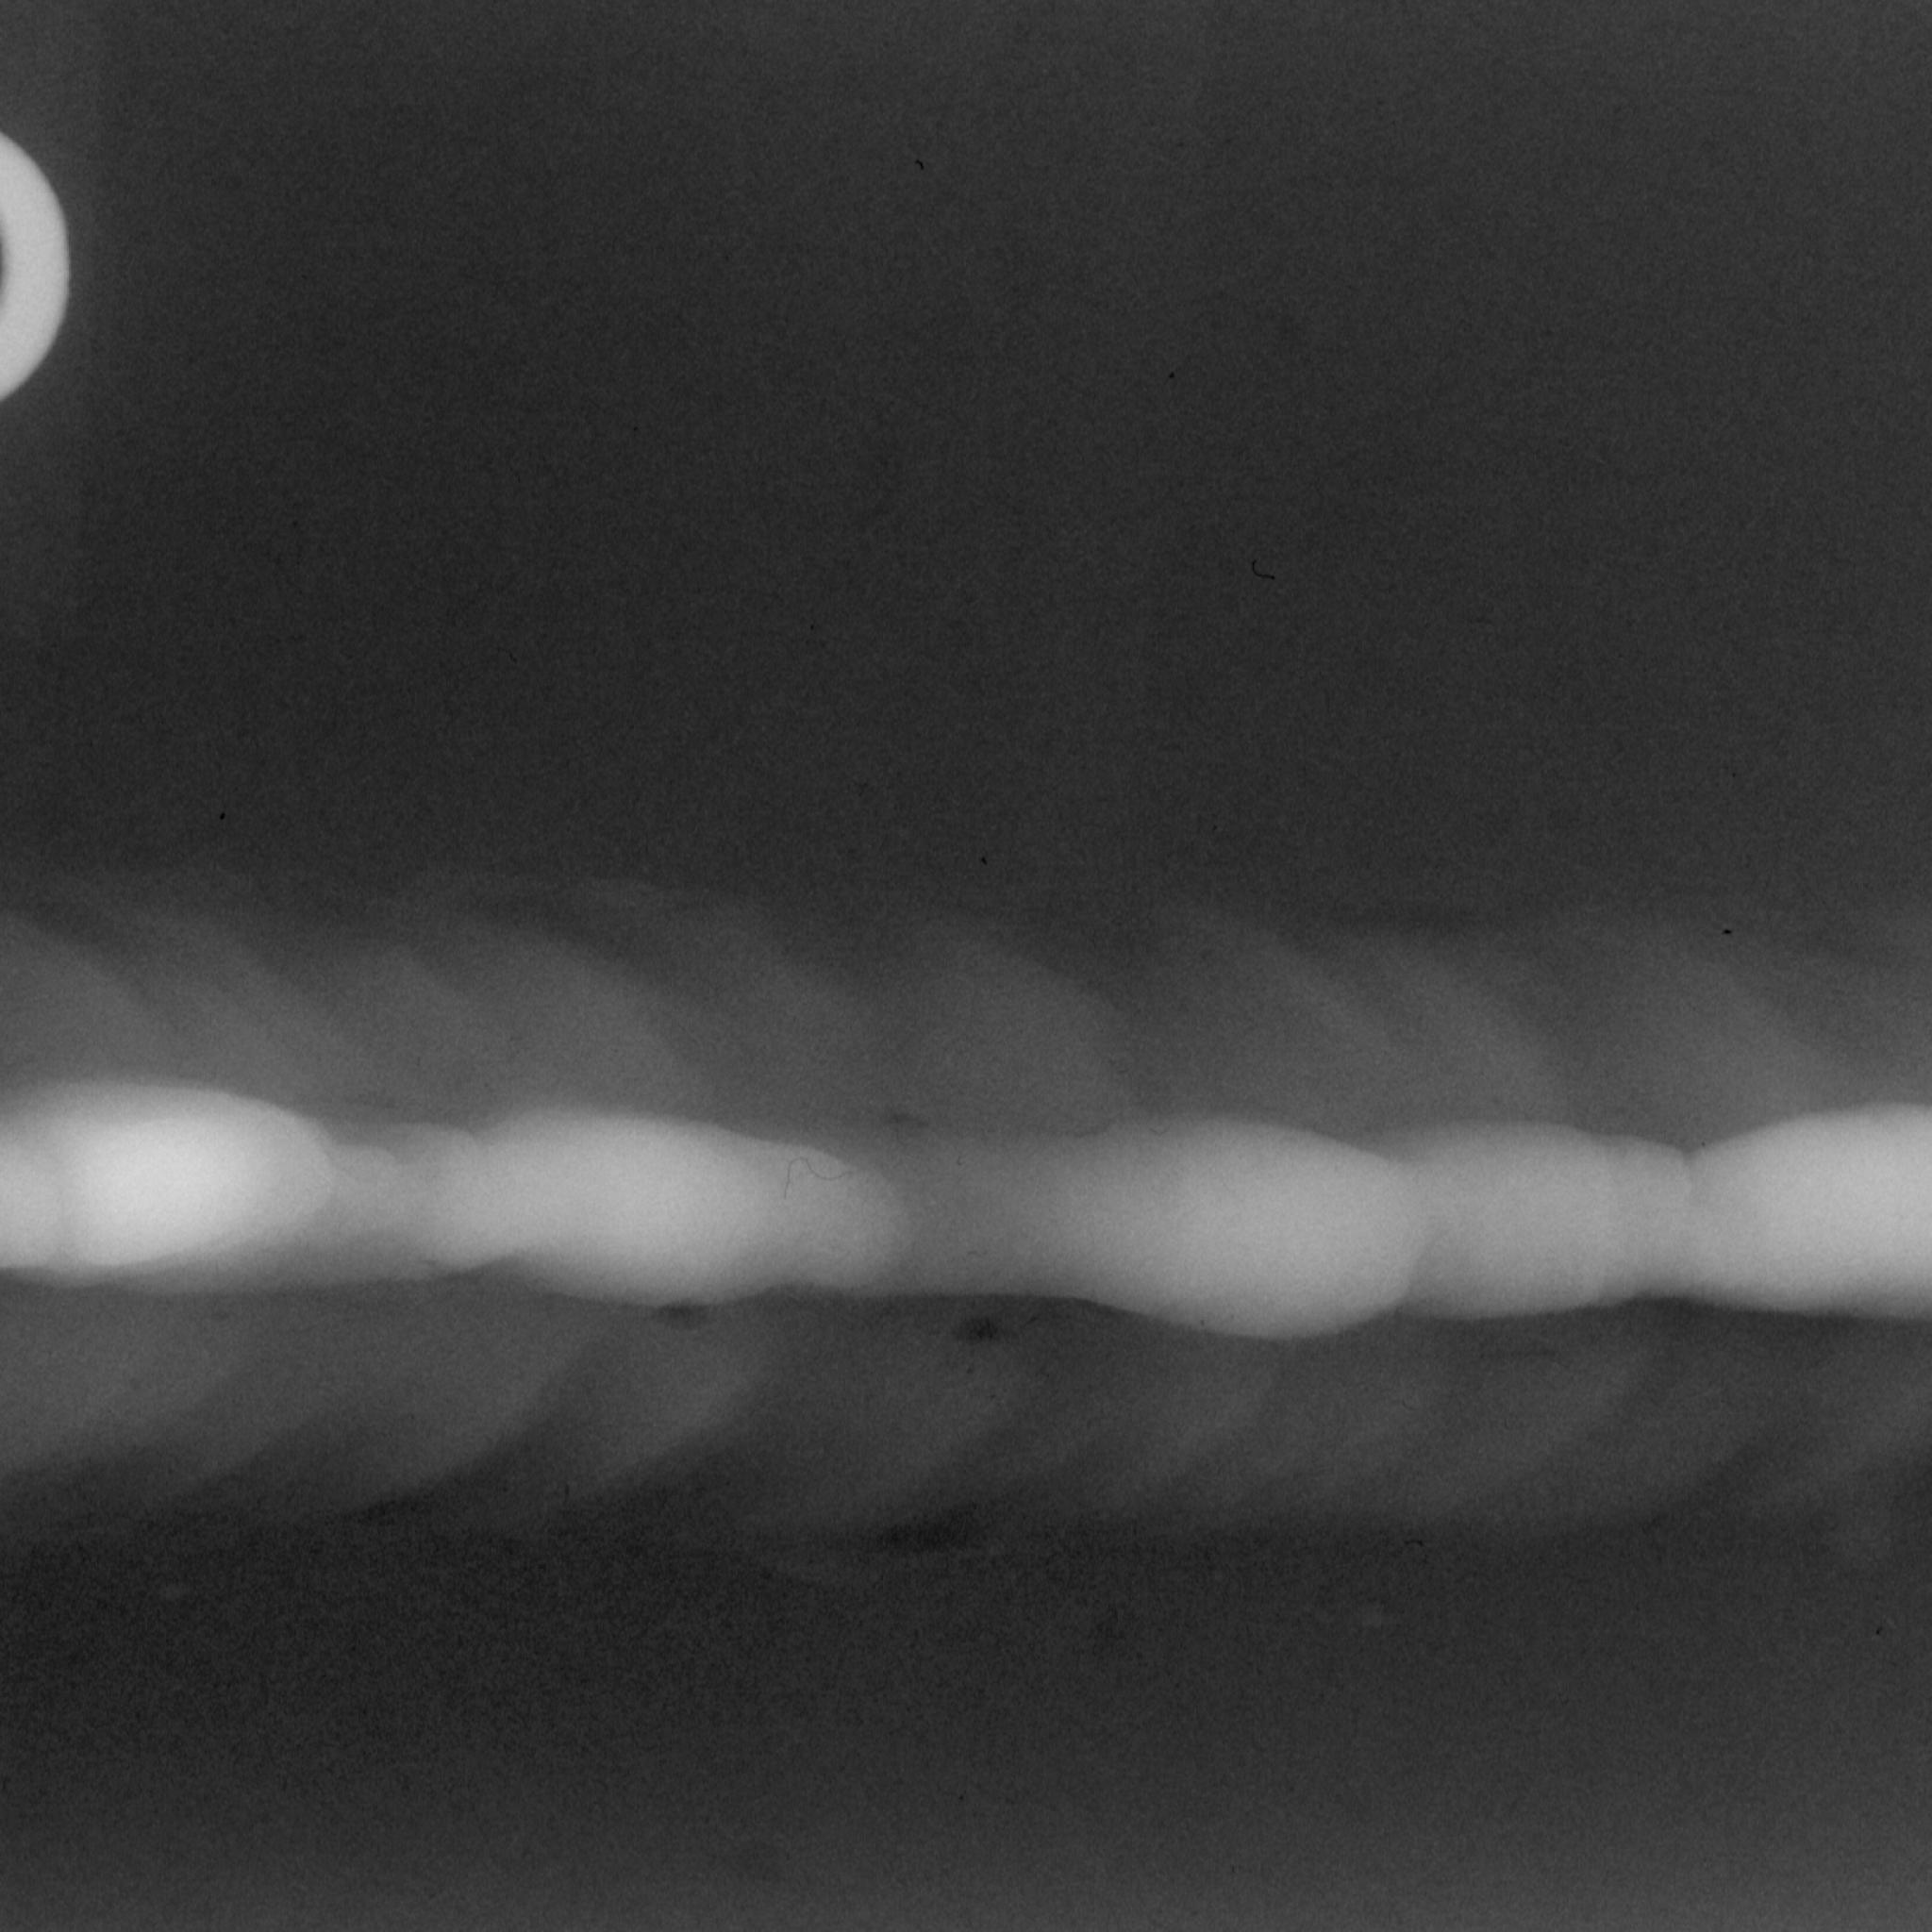PO: (498, 1477, 515, 1500), (962, 1357, 977, 1381), (985, 1388, 1003, 1403), (978, 852, 992, 869)
Solda Ruim: (0, 838, 1932, 1597)
